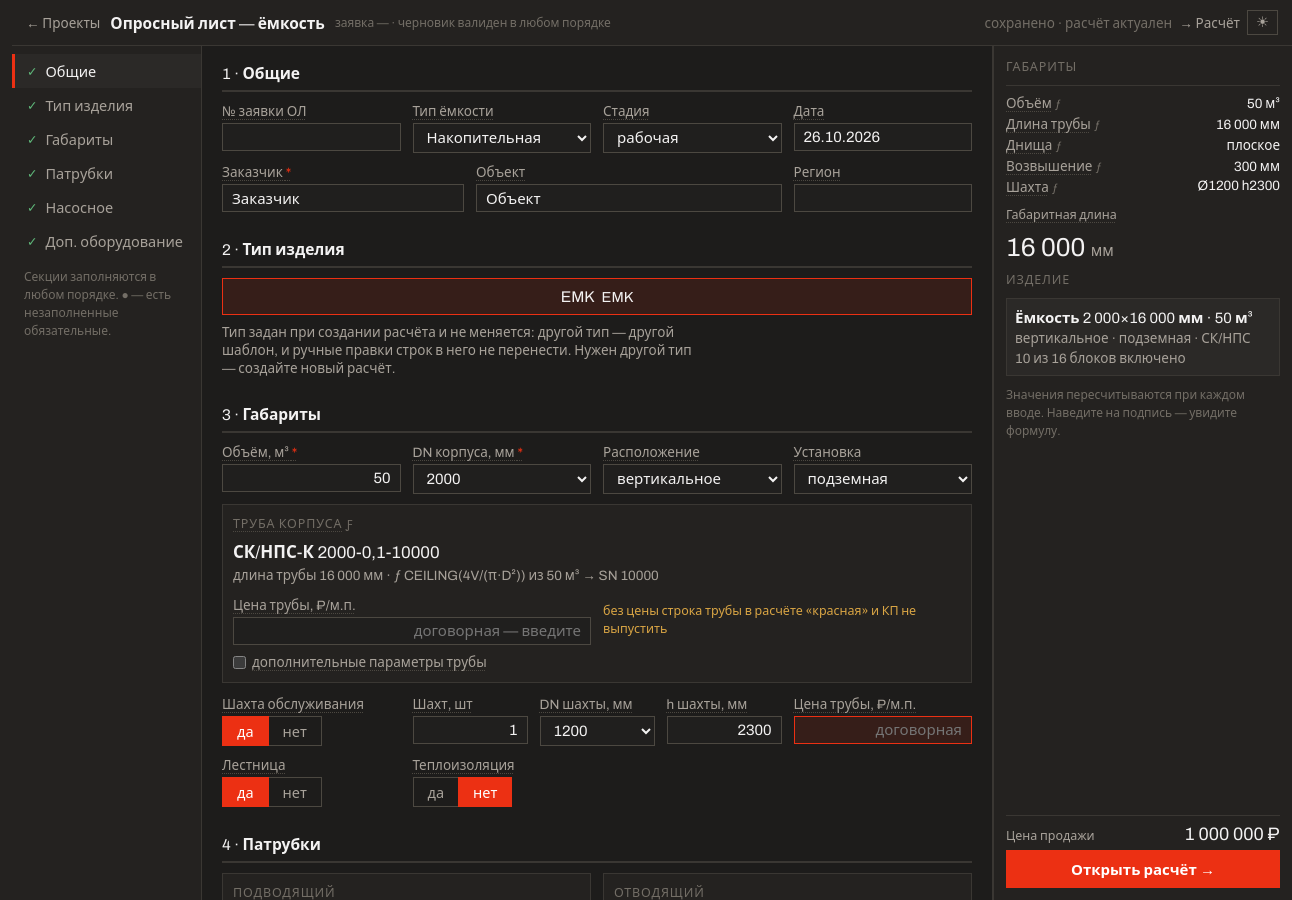
Scenario: ОЛ ЕМК: автосохранение › статус «сохранено» сообщает о непереносимых ручных правках
Select "2500" in the dropdown labelled "DN корпуса, мм *": (502, 479) [412,464,591,494]
Wait 710 ms
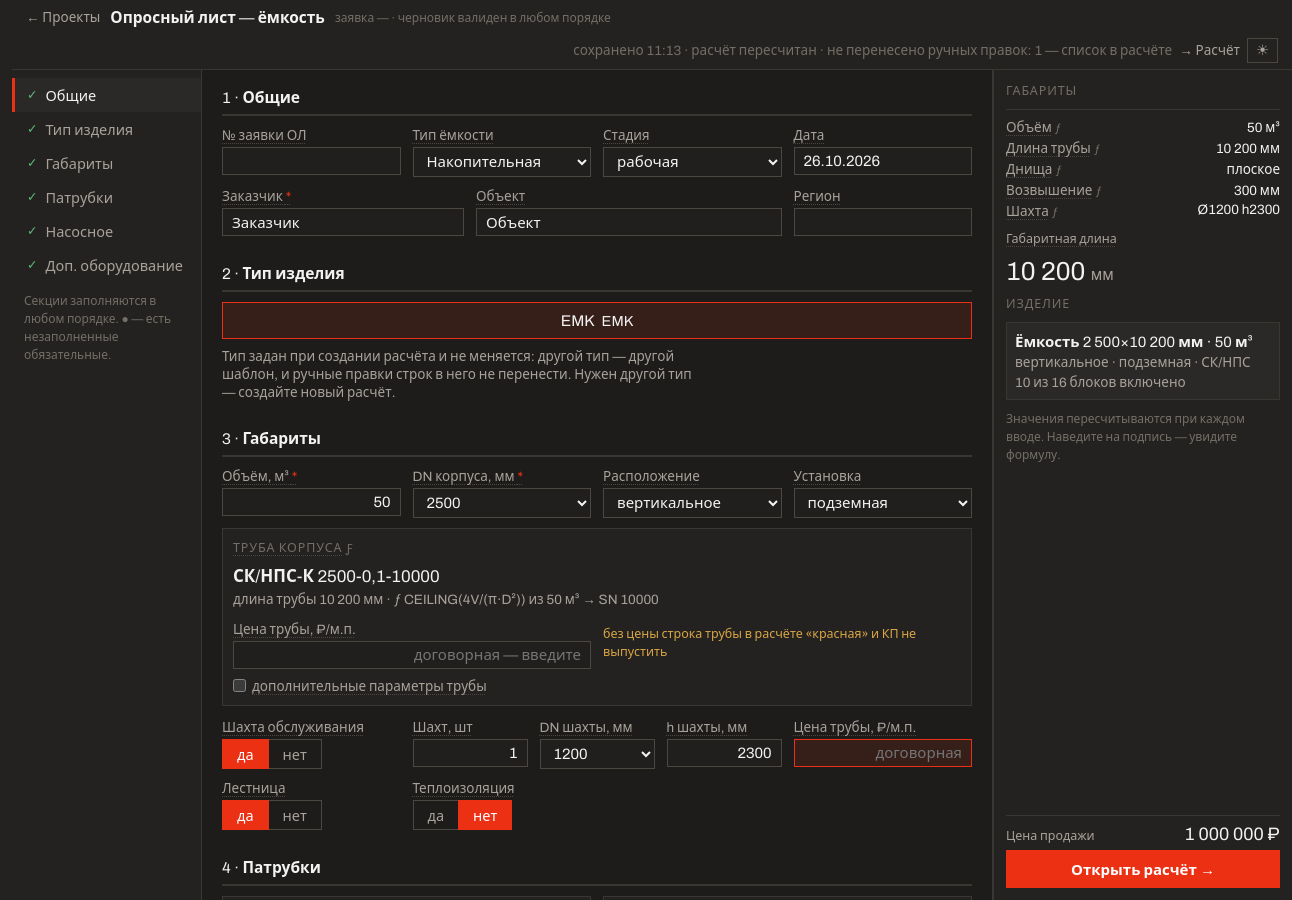
Result: the text with class "ol-draft" shows "не перенесено ручных правок: 1 — список в расчёте" at [573,43,1172,58]
